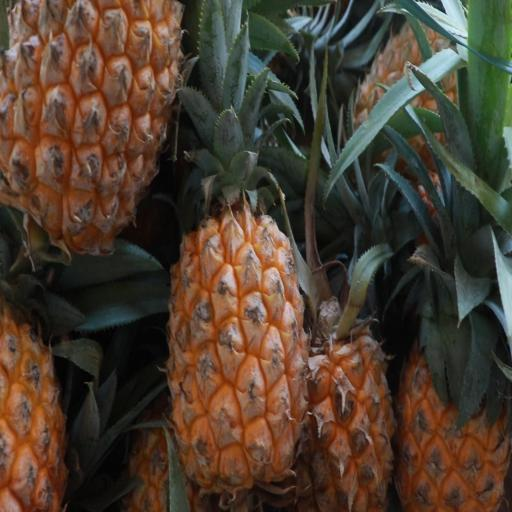Pineapple - v8 v1: (162, 140, 312, 501), (2, 0, 189, 265), (395, 187, 510, 512), (292, 254, 402, 512)
